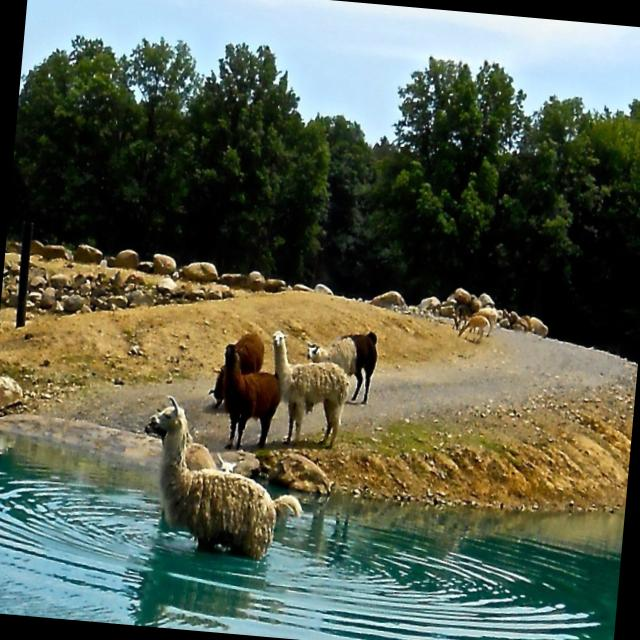alpaca: (136, 396, 310, 572), (262, 329, 351, 446), (214, 344, 280, 452)
